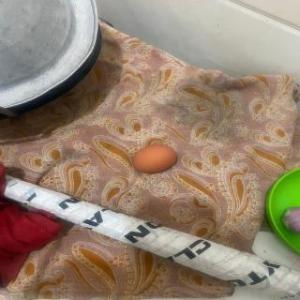egg: (132, 142, 178, 173)
